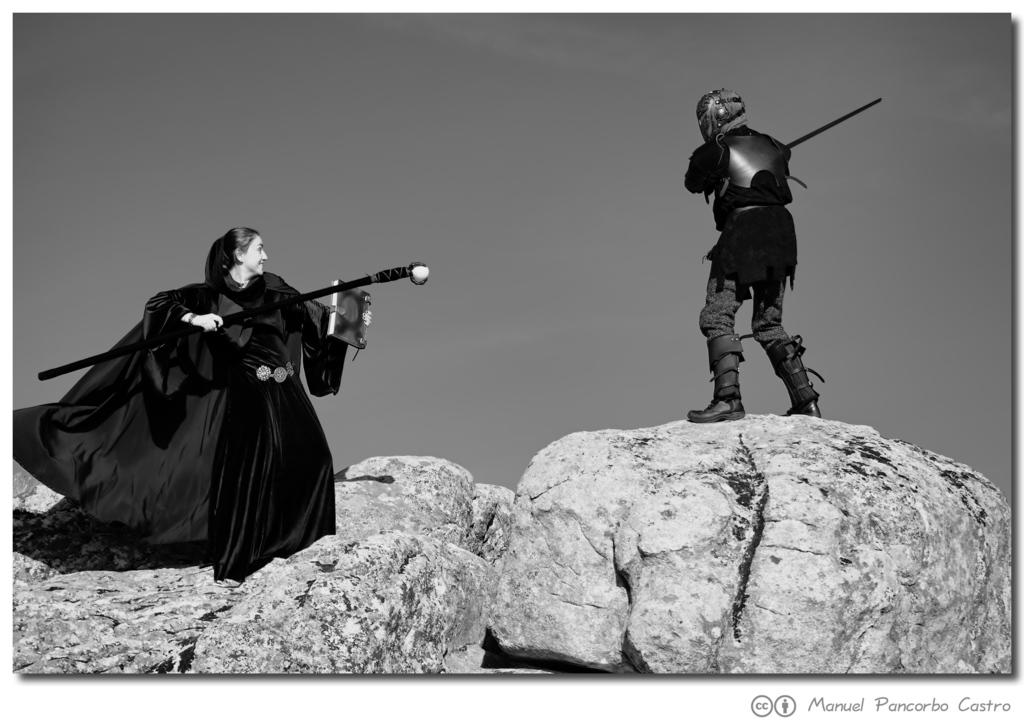non-violence: (13, 232, 347, 574), (686, 92, 821, 420)
weapon: (784, 97, 885, 147)
